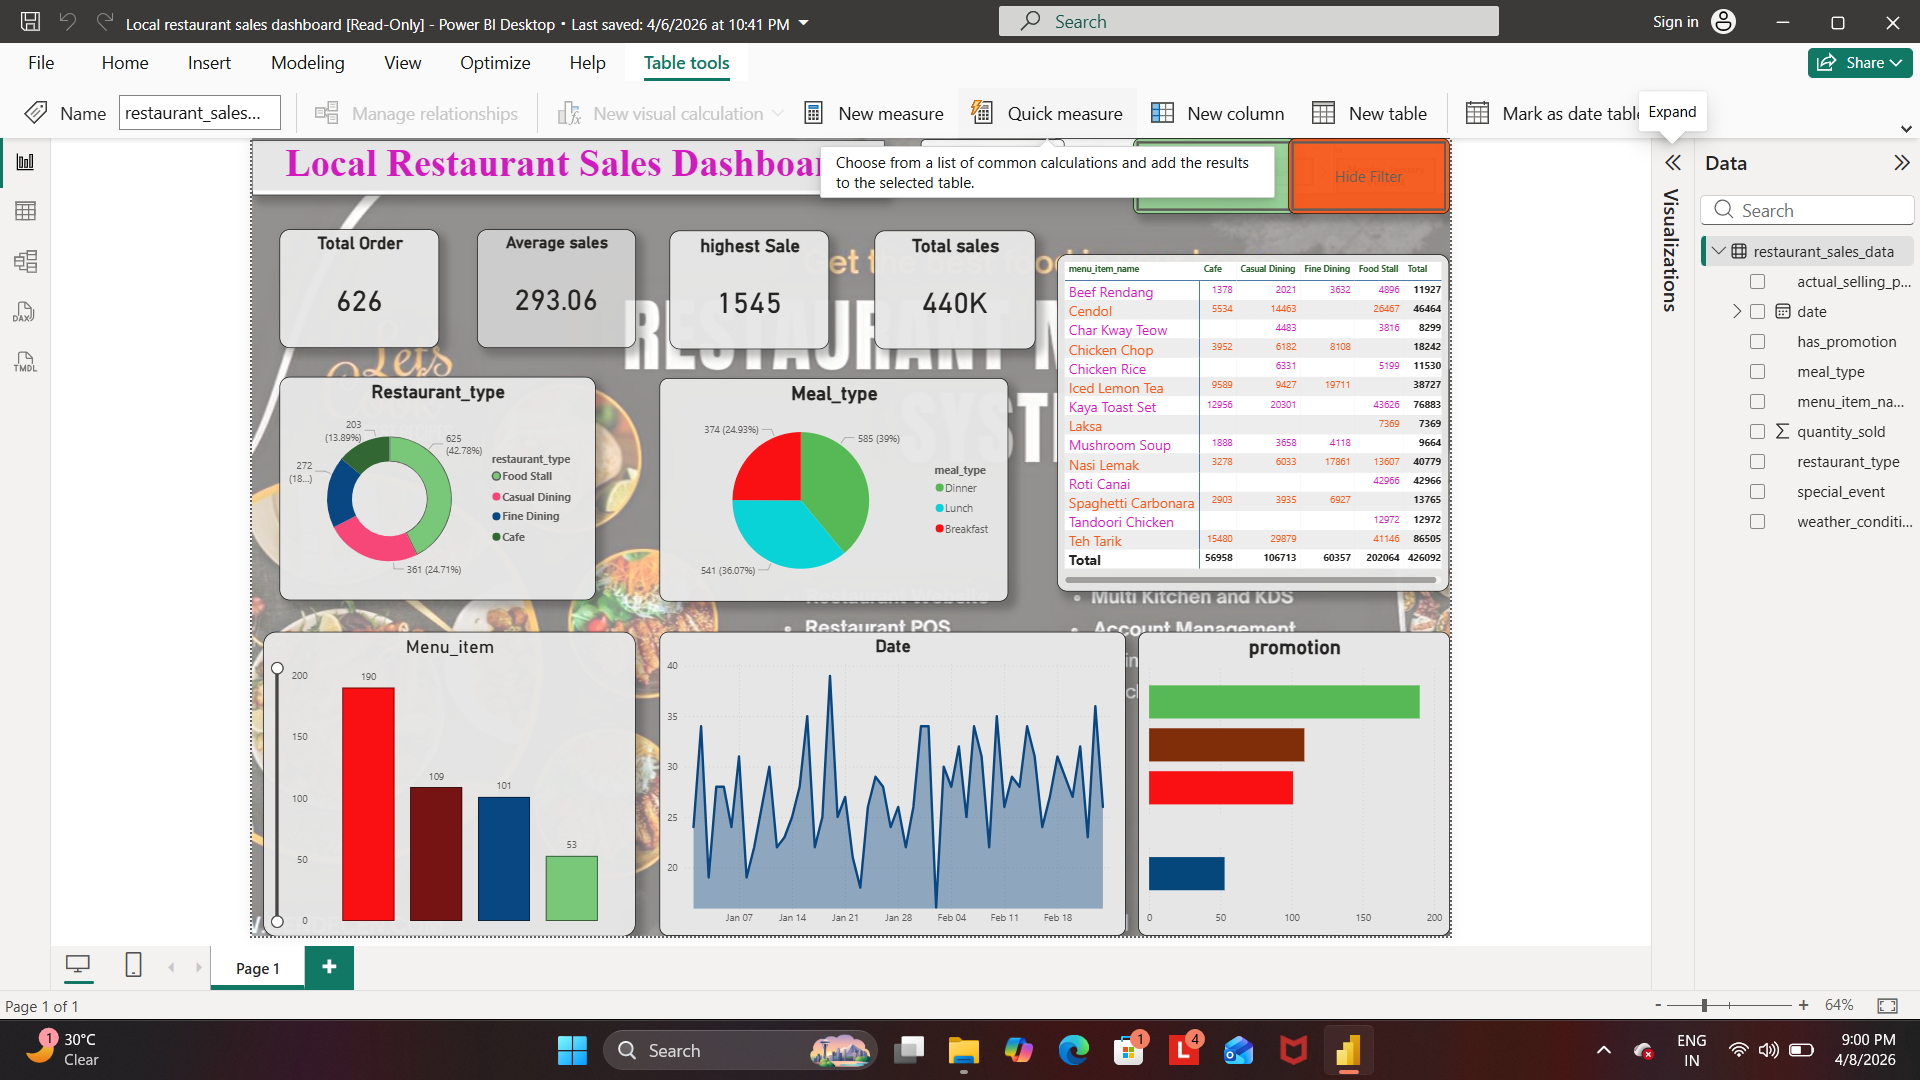

This screenshot's page, from the dashboard's own definition file:
{"tool":"powerbi","page":{"name":"Page 1","canvas":[1500,1000],"ordinal":0},"visuals":[{"type":"columnChart","title":"Menu_item","fields":{"Category":["restaurant_sales_data.menu_item_name"],"Y":["CountNonNull(restaurant_sales_data.quantity_sold)"]},"box":[14.1,618.3,466.5,382],"z":0},{"type":"areaChart","title":"Date","fields":{"Category":["restaurant_sales_data.date"],"Y":["CountNonNull(restaurant_sales_data.quantity_sold)"]},"box":[509.8,619.1,583.7,381.1],"z":1000},{"type":"pieChart","title":" Meal_type","fields":{"Category":["restaurant_sales_data.meal_type"],"Y":["CountNonNull(restaurant_sales_data.quantity_sold)"]},"box":[510.3,300.6,436.8,280.2],"z":2000},{"type":"donutChart","title":" Restaurant_type","fields":{"Category":["restaurant_sales_data.restaurant_type"],"Y":["CountNonNull(restaurant_sales_data.quantity_sold)"]},"box":[34.4,299,396.1,280.2],"z":3000},{"type":"clusteredBarChart","title":"promotion","fields":{"Category":["restaurant_sales_data.menu_item_name"],"Y":["CountNonNull(restaurant_sales_data.quantity_sold)"]},"box":[1109.6,619.1,390.8,381.1],"z":4000},{"type":"card","title":"Total sales","fields":{"Values":["Sum(restaurant_sales_data.quantity_sold)"]},"box":[779.6,115.8,201.9,148.7],"z":5000},{"type":"card","title":"Total Order","fields":{"Values":["Count(restaurant_sales_data.quantity_sold)"]},"box":[34.4,114.3,200.4,148.7],"z":6000},{"type":"card","title":"Average sales","fields":{"Values":["Avg(restaurant_sales_data.quantity_sold)"]},"box":[281.8,114.3,198.8,148.7],"z":7000},{"type":"card","title":"highest Sale","fields":{"Values":["Max(restaurant_sales_data.quantity_sold)"]},"box":[522.9,115.8,200.4,148.7],"z":8000},{"type":"slicer","fields":{"Values":["restaurant_sales_data.restaurant_type"]},"box":[1003.4,0,180,70],"z":9000},{"type":"slicer","fields":{"Values":["restaurant_sales_data.date"]},"box":[1329.5,0,180,70],"z":10000},{"type":"slicer","fields":{"Values":["restaurant_sales_data.meal_type"]},"box":[837.8,1.6,180,70],"z":11000},{"type":"slicer","fields":{"Values":["restaurant_sales_data.menu_item_name"]},"box":[1175.5,0,180,70],"z":12000},{"type":"textbox","title":" Local Restaurant Sales Dashboard","box":[0,3.1,792.1,68.9],"z":13000},{"type":"pivotTable","title":" Restaurant_type","fields":{"Values":["Sum(restaurant_sales_data.quantity_sold)"],"Rows":["restaurant_sales_data.menu_item_name"],"Columns":["restaurant_sales_data.restaurant_type"]},"box":[1008.1,145.6,491.5,422.7],"z":14000},{"type":"actionButton","box":[1103.6,0,202.1,95.2],"z":15000},{"type":"actionButton","box":[1297.9,0,202.1,95.2],"z":16000}]}

Visuals, with their boxes on the page's 1500x1000 design canvas (x1, y1, x2, y2). These are canvas units, not pixel positions in the 1920x1080 screenshot, which may show the page scaled, cropped or inside an application window:
"Menu_item" columnChart: box(14, 618, 481, 1000)
"Date" areaChart: box(510, 619, 1094, 1000)
" Meal_type" pieChart: box(510, 301, 947, 581)
" Restaurant_type" donutChart: box(34, 299, 430, 579)
"promotion" clusteredBarChart: box(1110, 619, 1500, 1000)
"Total sales" card: box(780, 116, 982, 264)
"Total Order" card: box(34, 114, 235, 263)
"Average sales" card: box(282, 114, 481, 263)
"highest Sale" card: box(523, 116, 723, 264)
slicer - restaurant_sales_data.restaurant_type: box(1003, 0, 1183, 70)
slicer - restaurant_sales_data.date: box(1330, 0, 1510, 70)
slicer - restaurant_sales_data.meal_type: box(838, 2, 1018, 72)
slicer - restaurant_sales_data.menu_item_name: box(1176, 0, 1356, 70)
" Local Restaurant Sales Dashboard" textbox: box(0, 3, 792, 72)
" Restaurant_type" pivotTable: box(1008, 146, 1500, 568)
actionButton: box(1104, 0, 1306, 95)
actionButton: box(1298, 0, 1500, 95)
